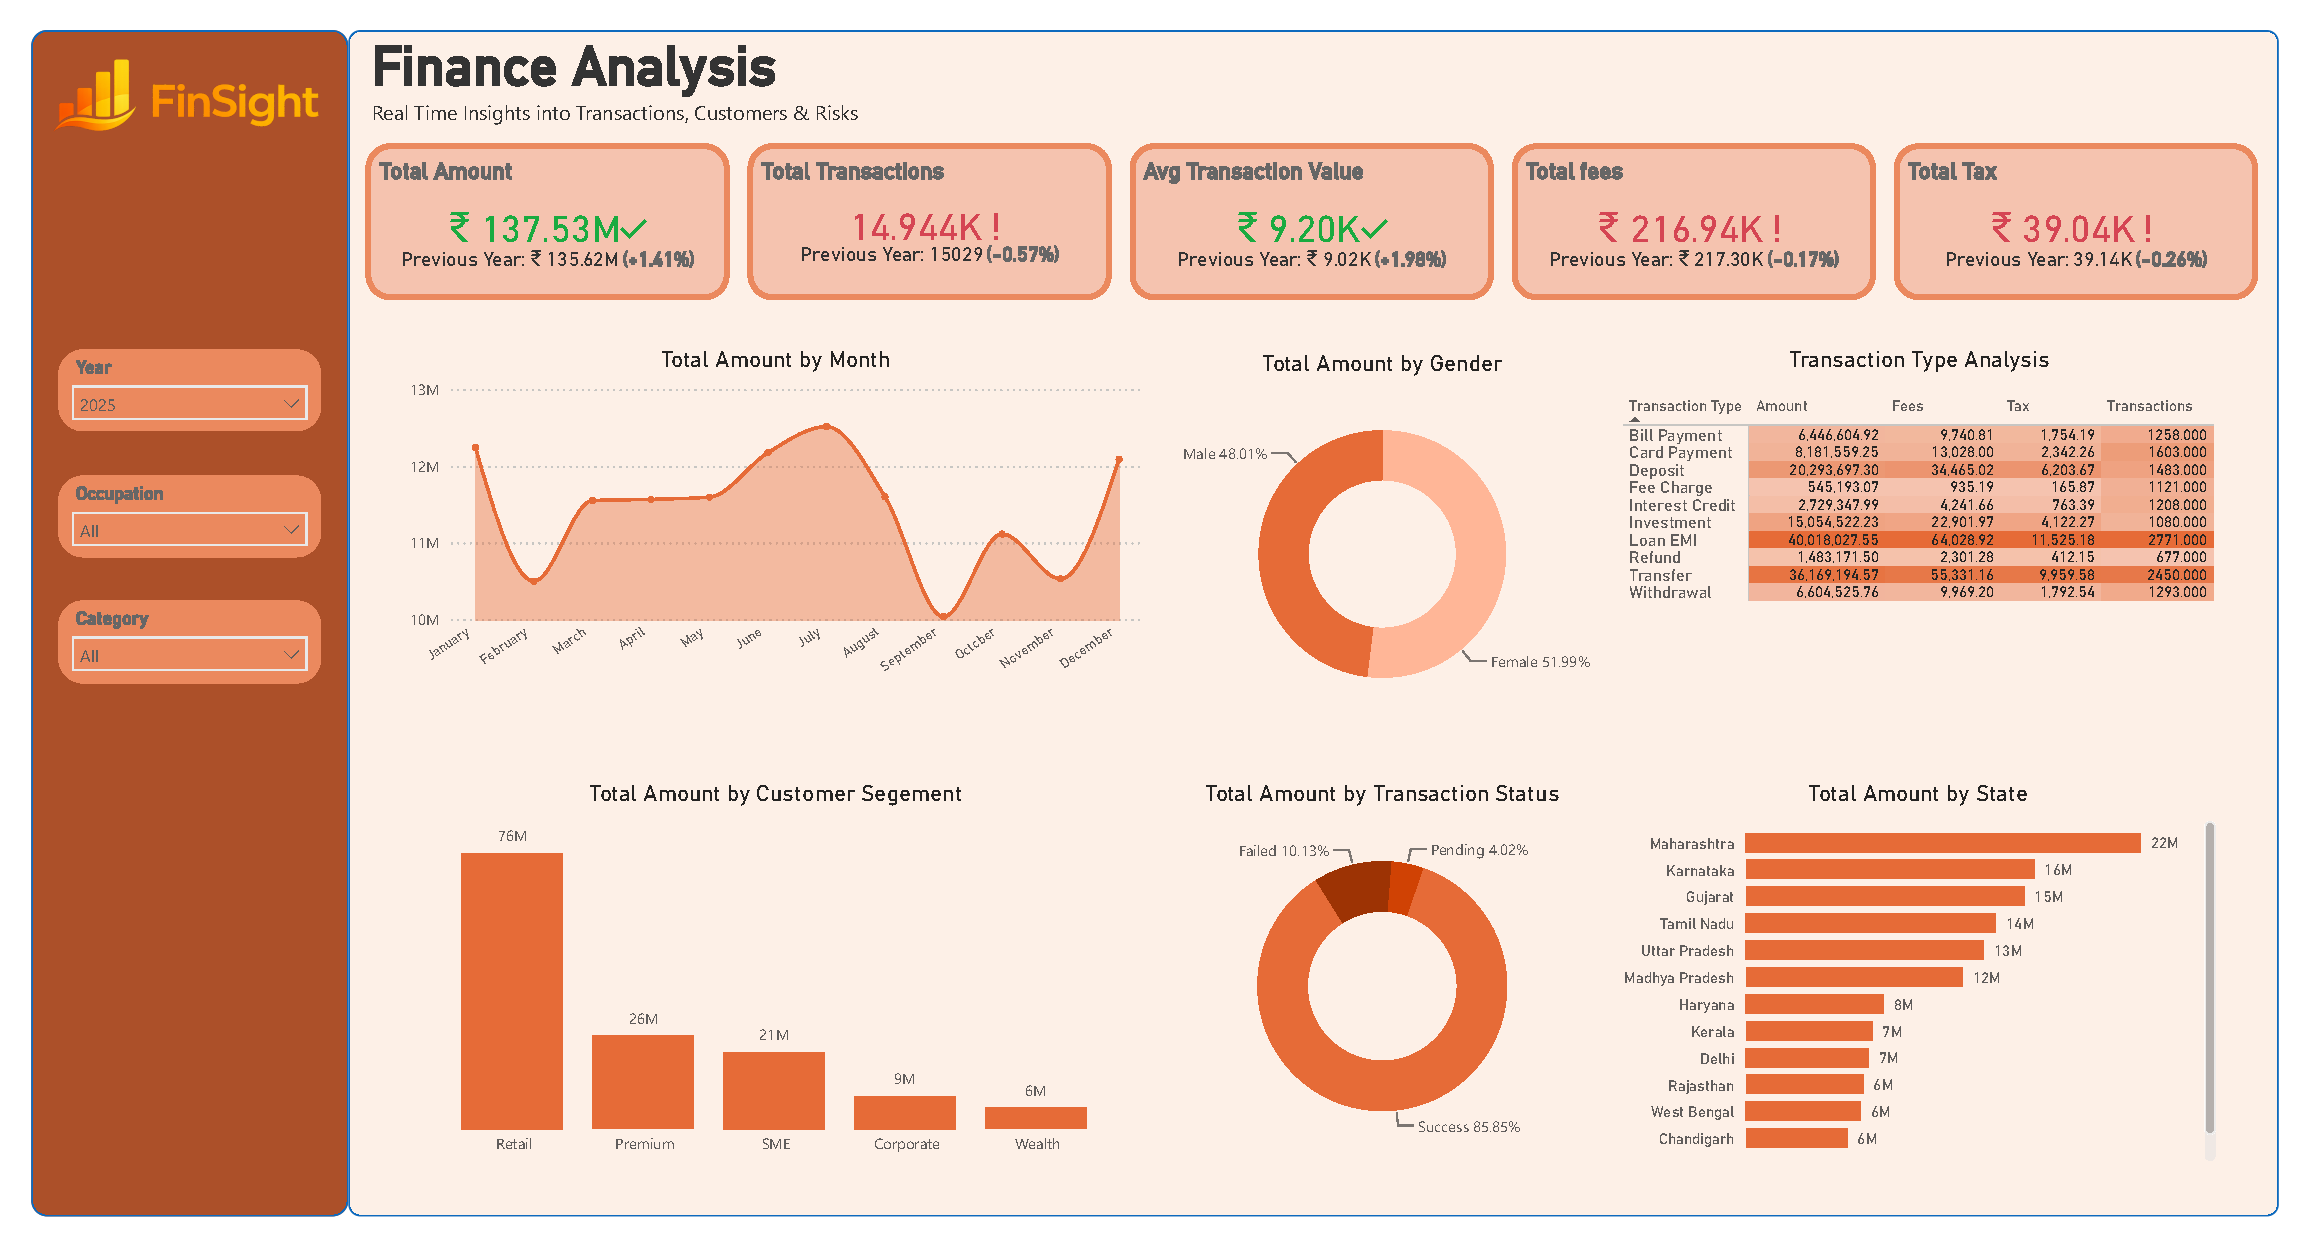

This screenshot's page, from the dashboard's own definition file:
{"tool":"powerbi","page":{"name":"Page 1","canvas":[1800,950],"ordinal":0},"visuals":[{"type":"shape","box":[0,0,253.5,949.7],"z":0},{"type":"shape","box":[253.5,0,1546.5,949.7],"z":1000},{"type":"image","box":[9.7,0,234.1,105.5],"z":2000},{"type":"cardVisual","fields":{"Data":["finance_transactions.Dashboard Title"]},"box":[268.1,0,410,81.3],"z":3000},{"type":"donutChart","title":"Total Amount by Gender","fields":{"Y":["CountNonNull(finance_transactions.transaction_id)"],"Category":["customers.gender"]},"box":[895.1,255.9,373.6,305.7],"z":4000},{"type":"donutChart","title":"Total Amount by Transaction Status","fields":{"Category":["finance_transactions.transaction_status"],"Y":["CountNonNull(finance_transactions.transaction_id)"]},"box":[895.2,600.3,373.6,309.3],"z":5000},{"type":"lineChart","title":"Total Amount by Month","fields":{"Y":["Sum(finance_transactions.amount)"],"Category":["Calendar Table.Date.Variation.Date Hierarchy.Month"]},"box":[298.4,253.4,596.8,279],"z":6000},{"type":"columnChart","title":"Total Amount by Customer Segement","fields":{"Category":["customers.customer_segment"],"Y":["Sum(finance_transactions.amount)"]},"box":[298.4,600.3,596.8,309.3],"z":7000},{"type":"barChart","title":"Total Amount by State","fields":{"Y":["Sum(finance_transactions.amount)"],"Category":["customers.state"]},"box":[1268.7,600.3,485.2,309.3],"z":8000},{"type":"pivotTable","title":"Transaction Type Analysis","fields":{"Rows":["finance_transactions.transaction_type"],"Values":["Sum(finance_transactions.amount)","Sum(finance_transactions.fee_amount)","Sum(finance_transactions.tax_amount)","finance_transactions.total_transactions"]},"box":[1269.7,253.4,484,279],"z":9000},{"type":"slicer","fields":{"Values":["Calendar Table.Year"]},"box":[21.8,255.9,209.8,65.5],"z":10000},{"type":"kpi","title":"Total Amount","fields":{"Indicator":["finance_transactions.Total Amount"],"Goal":["finance_transactions.PY Amount"],"TrendLine":["Calendar Table.Year"]},"box":[268.1,90.8,291.1,124.9],"z":11000},{"type":"kpi","title":"Total Transactions","fields":{"TrendLine":["Calendar Table.Year"],"Goal":["finance_transactions.PY Transaction"],"Indicator":["finance_transactions.total_transactions"]},"box":[574,90.8,291.1,124.9],"z":12000},{"type":"kpi","title":"Avg Transaction Value","fields":{"TrendLine":["Calendar Table.Year"],"Goal":["finance_transactions.PY Avg Trans Val"],"Indicator":["finance_transactions.Avg Trans Val"]},"box":[880,90.8,291.1,124.9],"z":13000},{"type":"kpi","title":"Total fees","fields":{"TrendLine":["Calendar Table.Year"],"Goal":["finance_transactions.PY TFees"],"Indicator":["finance_transactions.TFees"]},"box":[1186,90.8,291.1,124.9],"z":14000},{"type":"kpi","title":"Total Tax","fields":{"TrendLine":["Calendar Table.Year"],"Goal":["finance_transactions.PV TTax"],"Indicator":["finance_transactions.TTax"]},"box":[1492,91.4,291.1,124.9],"z":15000},{"type":"slicer","fields":{"Values":["customers.occupation"]},"box":[22.1,356.7,209.8,65.5],"z":16000},{"type":"slicer","fields":{"Values":["finance_transactions.merchant_category"]},"box":[22.1,457.5,209.8,65.5],"z":17000}]}

Visuals, with their boxes in screenshot pixels (x1, y1, x2, y2), scaled from the page's 1800x950 canvas onto the 2310x1247 screenshot:
shape: bbox=[0, 0, 325, 1246]
shape: bbox=[325, 0, 2309, 1246]
image: bbox=[12, 0, 313, 138]
cardVisual - finance_transactions.Dashboard Title: bbox=[344, 0, 870, 107]
"Total Amount by Gender" donutChart: bbox=[1149, 336, 1628, 737]
"Total Amount by Transaction Status" donutChart: bbox=[1149, 788, 1628, 1194]
"Total Amount by Month" lineChart: bbox=[383, 333, 1149, 699]
"Total Amount by Customer Segement" columnChart: bbox=[383, 788, 1149, 1194]
"Total Amount by State" barChart: bbox=[1628, 788, 2251, 1194]
"Transaction Type Analysis" pivotTable: bbox=[1629, 333, 2251, 699]
slicer - Calendar Table.Year: bbox=[28, 336, 297, 422]
"Total Amount" kpi: bbox=[344, 119, 718, 283]
"Total Transactions" kpi: bbox=[737, 119, 1110, 283]
"Avg Transaction Value" kpi: bbox=[1129, 119, 1503, 283]
"Total fees" kpi: bbox=[1522, 119, 1896, 283]
"Total Tax" kpi: bbox=[1915, 120, 2288, 284]
slicer - customers.occupation: bbox=[28, 468, 298, 554]
slicer - finance_transactions.merchant_category: bbox=[28, 601, 298, 687]
